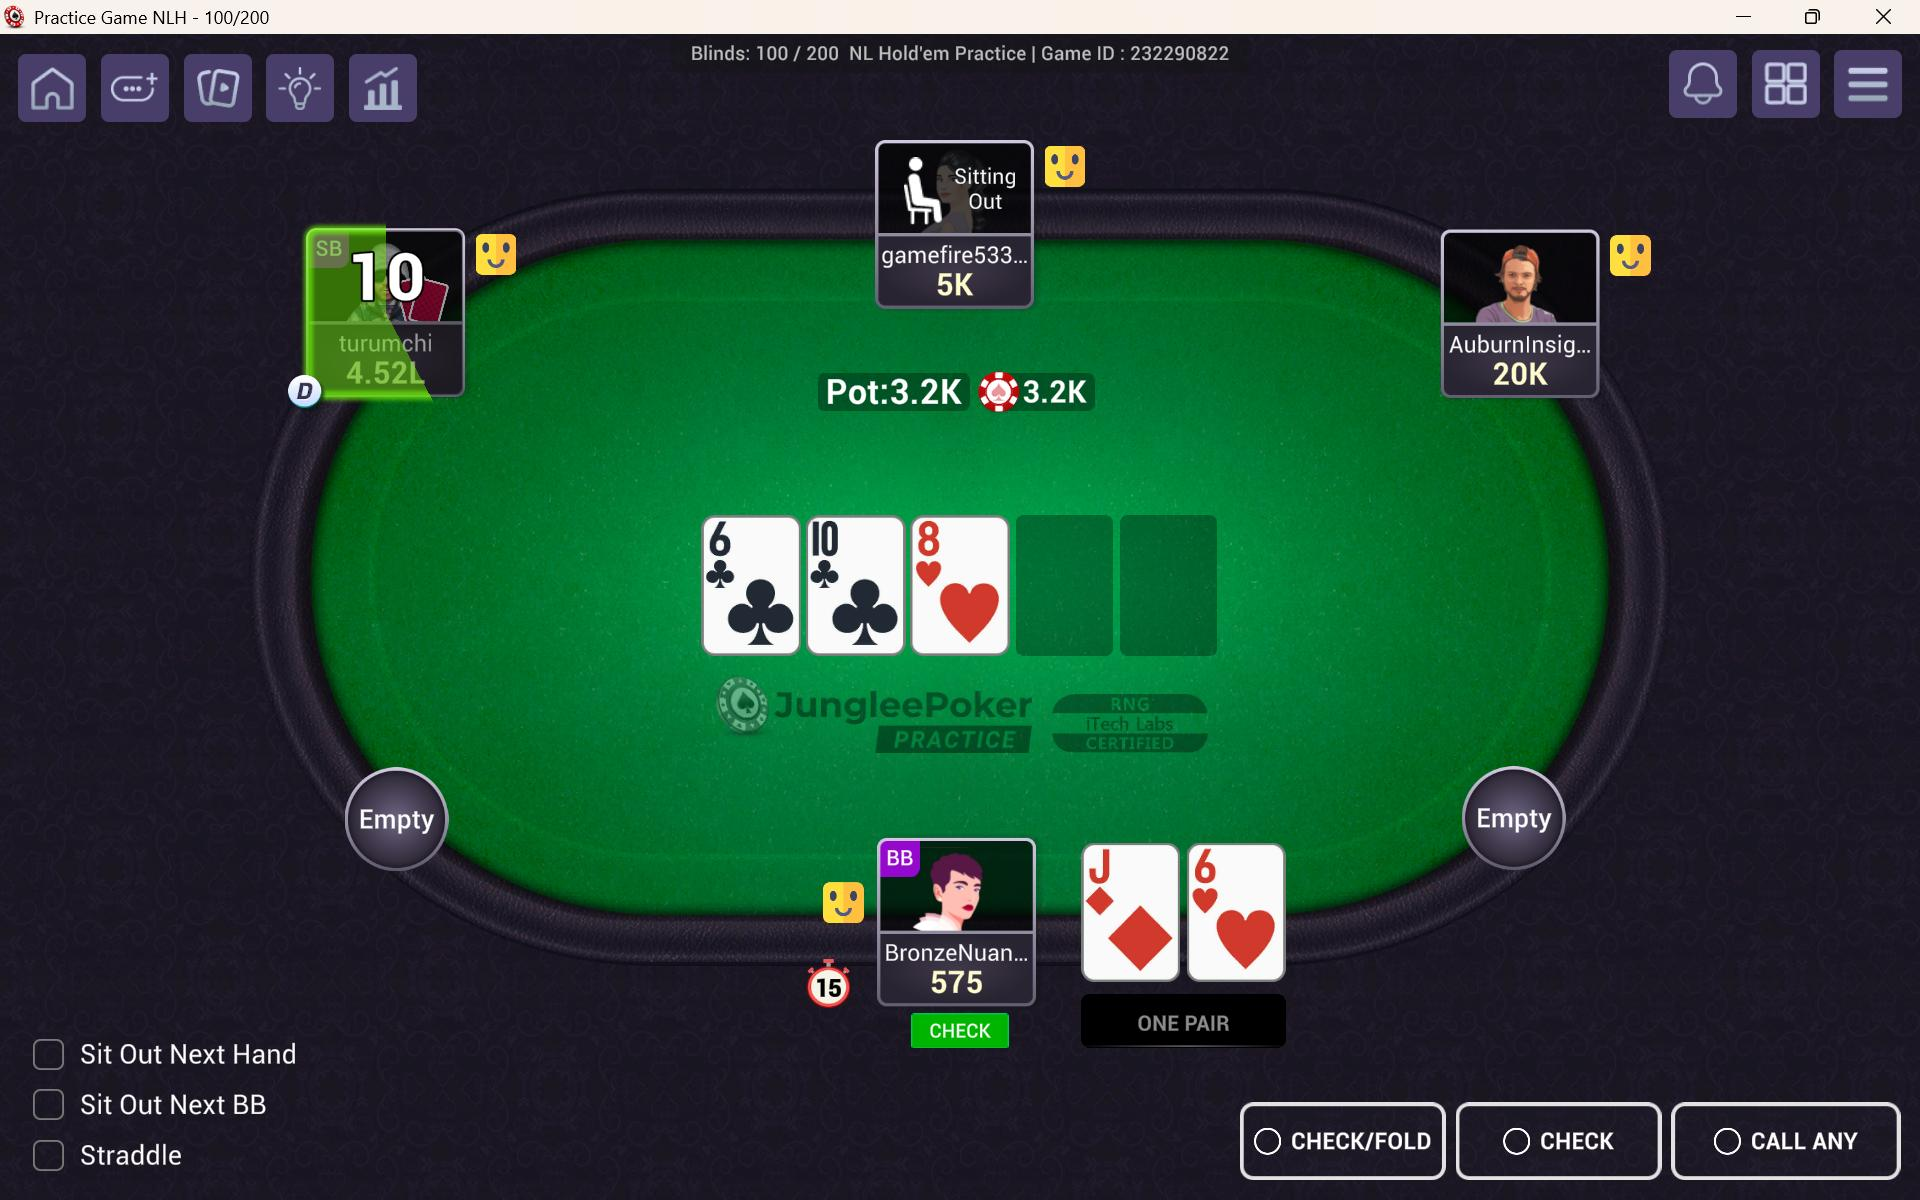card1_rank: (1085, 845, 1140, 892)
card1_suite_diamond: (1110, 908, 1175, 978)
card2_rank: (1185, 843, 1247, 890)
card2_suite_heart: (1210, 905, 1282, 980)
flop1_rank: (705, 520, 775, 562)
flop1_suite_club: (730, 575, 800, 655)
flop2_rank: (808, 520, 868, 562)
flop2_suite_club: (828, 570, 902, 650)
flop3_rank: (912, 520, 968, 560)
flop3_suite_heart: (933, 578, 1008, 650)
game_id: (1040, 32, 1248, 75)
my_stack: (907, 962, 1030, 1000)
position_BB: (878, 840, 920, 875)
position_SB: (308, 235, 355, 262)
total_pot: (820, 365, 1095, 412)
villian2_name: (310, 325, 460, 358)
villian2_stack: (332, 355, 435, 395)
villian3_name: (880, 245, 1032, 268)
villian3_stack: (897, 260, 1005, 300)
villian4_name: (1445, 330, 1588, 355)
villian4_stack: (1465, 358, 1568, 390)
